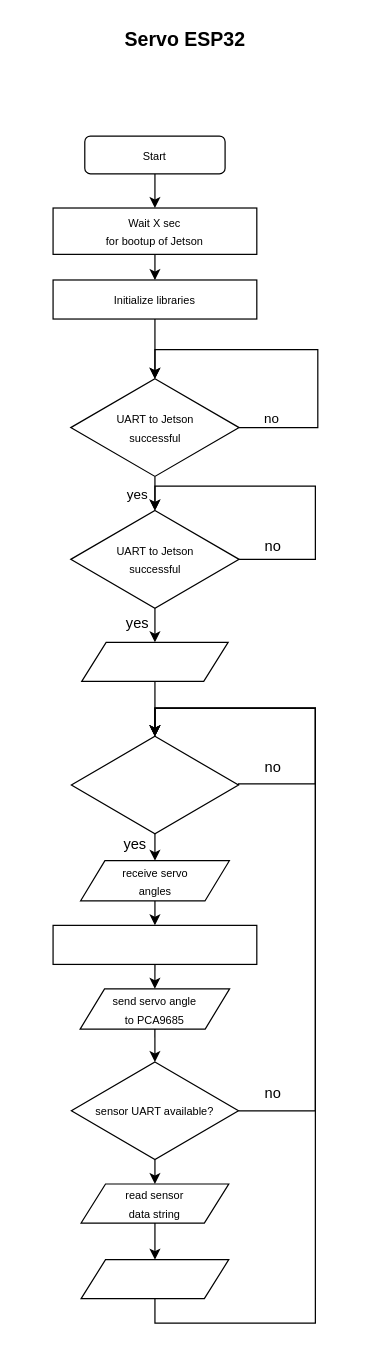
Image size: 370x1354. Some labels were removed from this diagram. Each missing label, with the centre of its shape:
"calculate servo speed" goes at [154,944].
"jetson UART available" goes at [154,784].
"redirect sensor data string" goes at [154,1278].
"Sending success" goes at [154,661].
